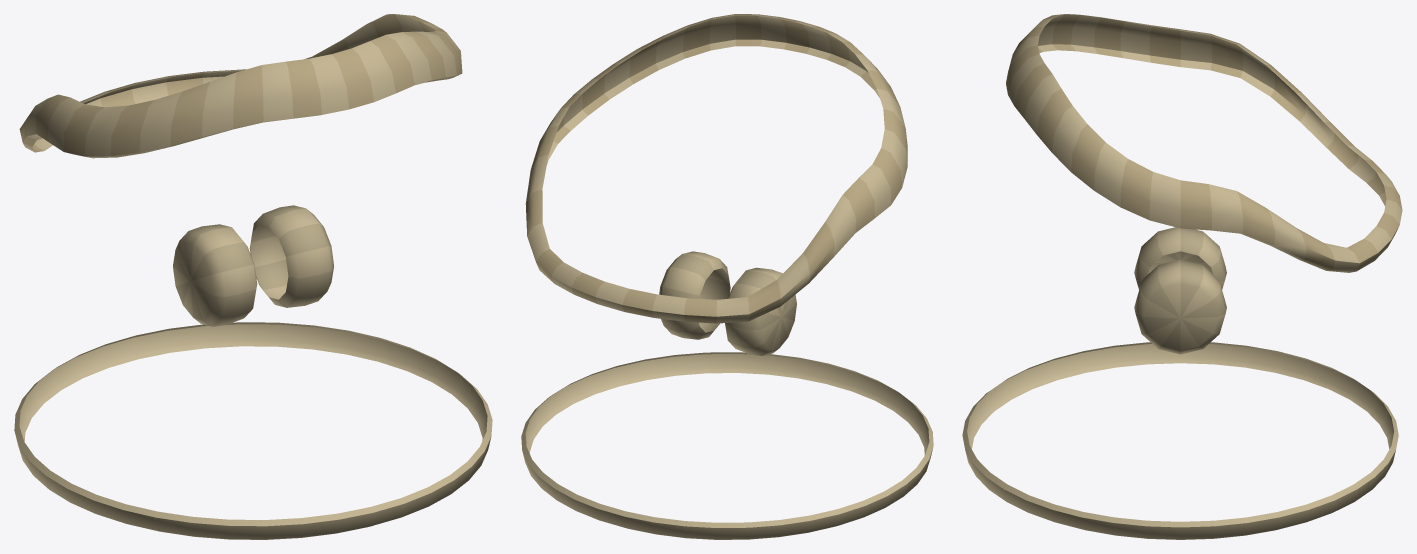
Rendered from cos_u_sweater.glb.
3 renders of one model, left to right at view 1: azimuth 30°, elevation 25°; view 2: azimuth 150°, elevation 25°; view 3: azimuth 270°, elevation 25°, orthographic. The views are drawn at different scales.
Visible parts, largest first — view 1: u_sweater, u_sweater_cuff_R, u_sweater_cuff_L; view 2: u_sweater, u_sweater_cuff_L, u_sweater_cuff_R; view 3: u_sweater, u_sweater_cuff_L, u_sweater_cuff_R.
Part boxes in pixels (left/top/right/bottom): u_sweater: left=14, top=14, right=492, bottom=539; u_sweater_cuff_R: left=173, top=224, right=257, bottom=326; u_sweater_cuff_L: left=249, top=205, right=333, bottom=307; u_sweater: left=521, top=14, right=933, bottom=539; u_sweater_cuff_L: left=659, top=251, right=730, bottom=339; u_sweater_cuff_R: left=725, top=267, right=796, bottom=355; u_sweater: left=962, top=14, right=1402, bottom=539; u_sweater_cuff_L: left=1134, top=259, right=1226, bottom=354; u_sweater_cuff_R: left=1134, top=227, right=1226, bottom=289.
Size of the model in its own units: 1.06 by 1.09 by 1.07.
